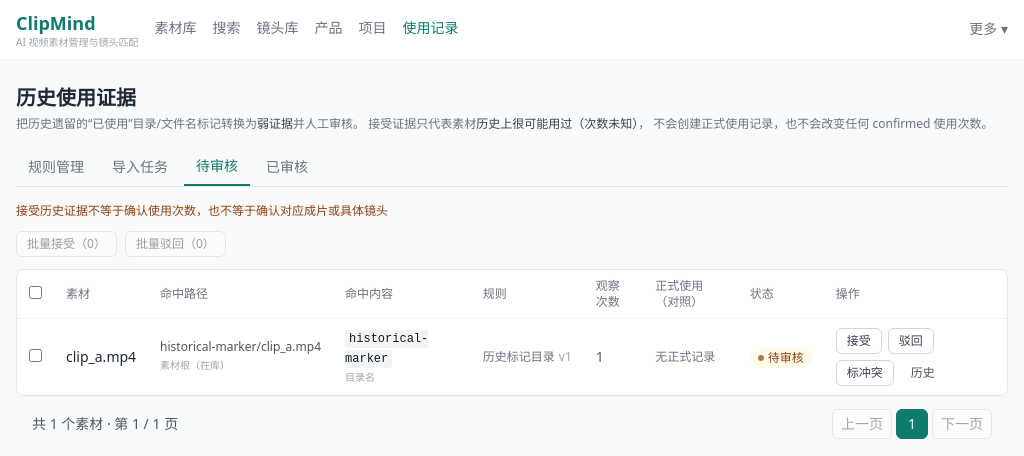
UsageEvidenceView 导入任务 › 运行列表展示状态与计数
Click the tab with test id "tab-imports".
click(140, 167)  # box left=100, top=148, right=180, bottom=186
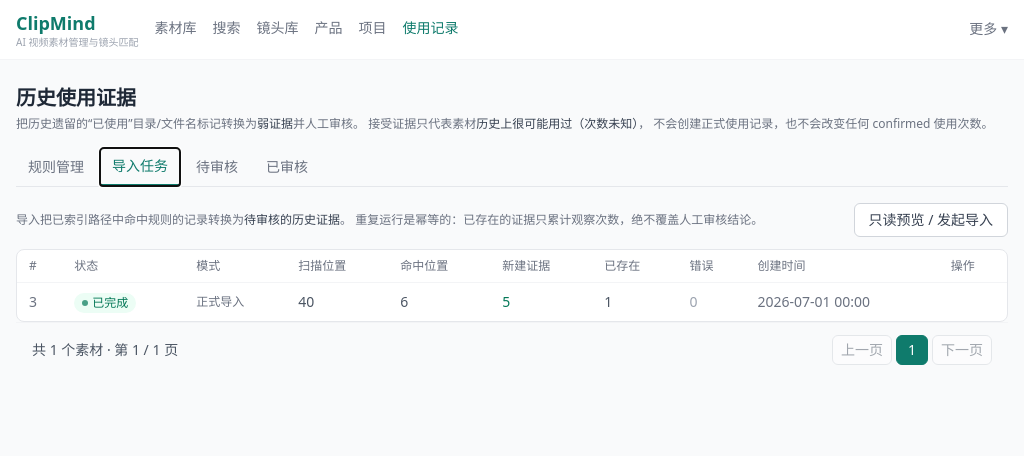
Expected: the row with test id "import-run-3" shows "已完成", left=92, top=294, right=128, bottom=311
Expected: the row with test id "import-run-3" shows "40", left=298, top=292, right=314, bottom=311
Expected: the row with test id "import-run-3" shows "5", left=502, top=292, right=510, bottom=311
